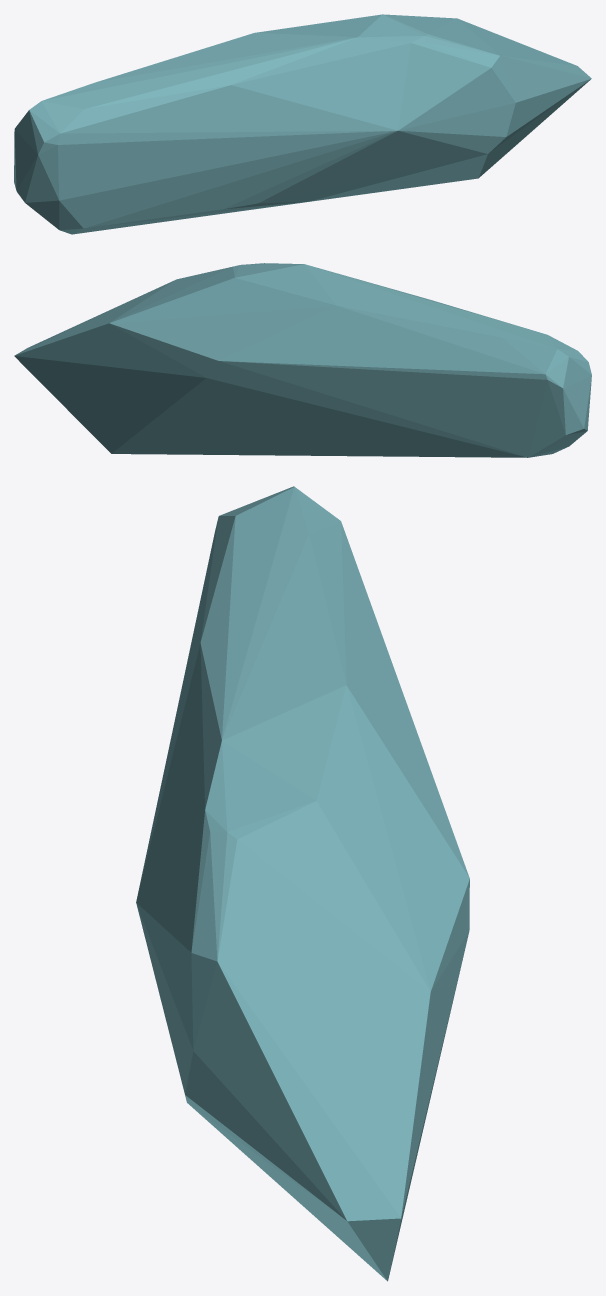
The model's file is handTool_knife_retractableBlade_a01.glb.
3 renders of one model, top to bottom at view 1: azimuth 30°, elevation 25°; view 2: azimuth 150°, elevation 25°; view 3: azimuth 270°, elevation 25°, orthographic. The views are drawn at different scales.
Parts seen in each view (by area): view 1: geometry_0; view 2: geometry_0; view 3: geometry_0.
Boxes of the visible parts, x1,y1,x2,y2 form: geometry_0: (14, 14, 591, 234); geometry_0: (14, 263, 591, 457); geometry_0: (136, 486, 469, 1281).
Bounding box in the file's own units: 0.4659 × 0.1615 × 0.1243.
